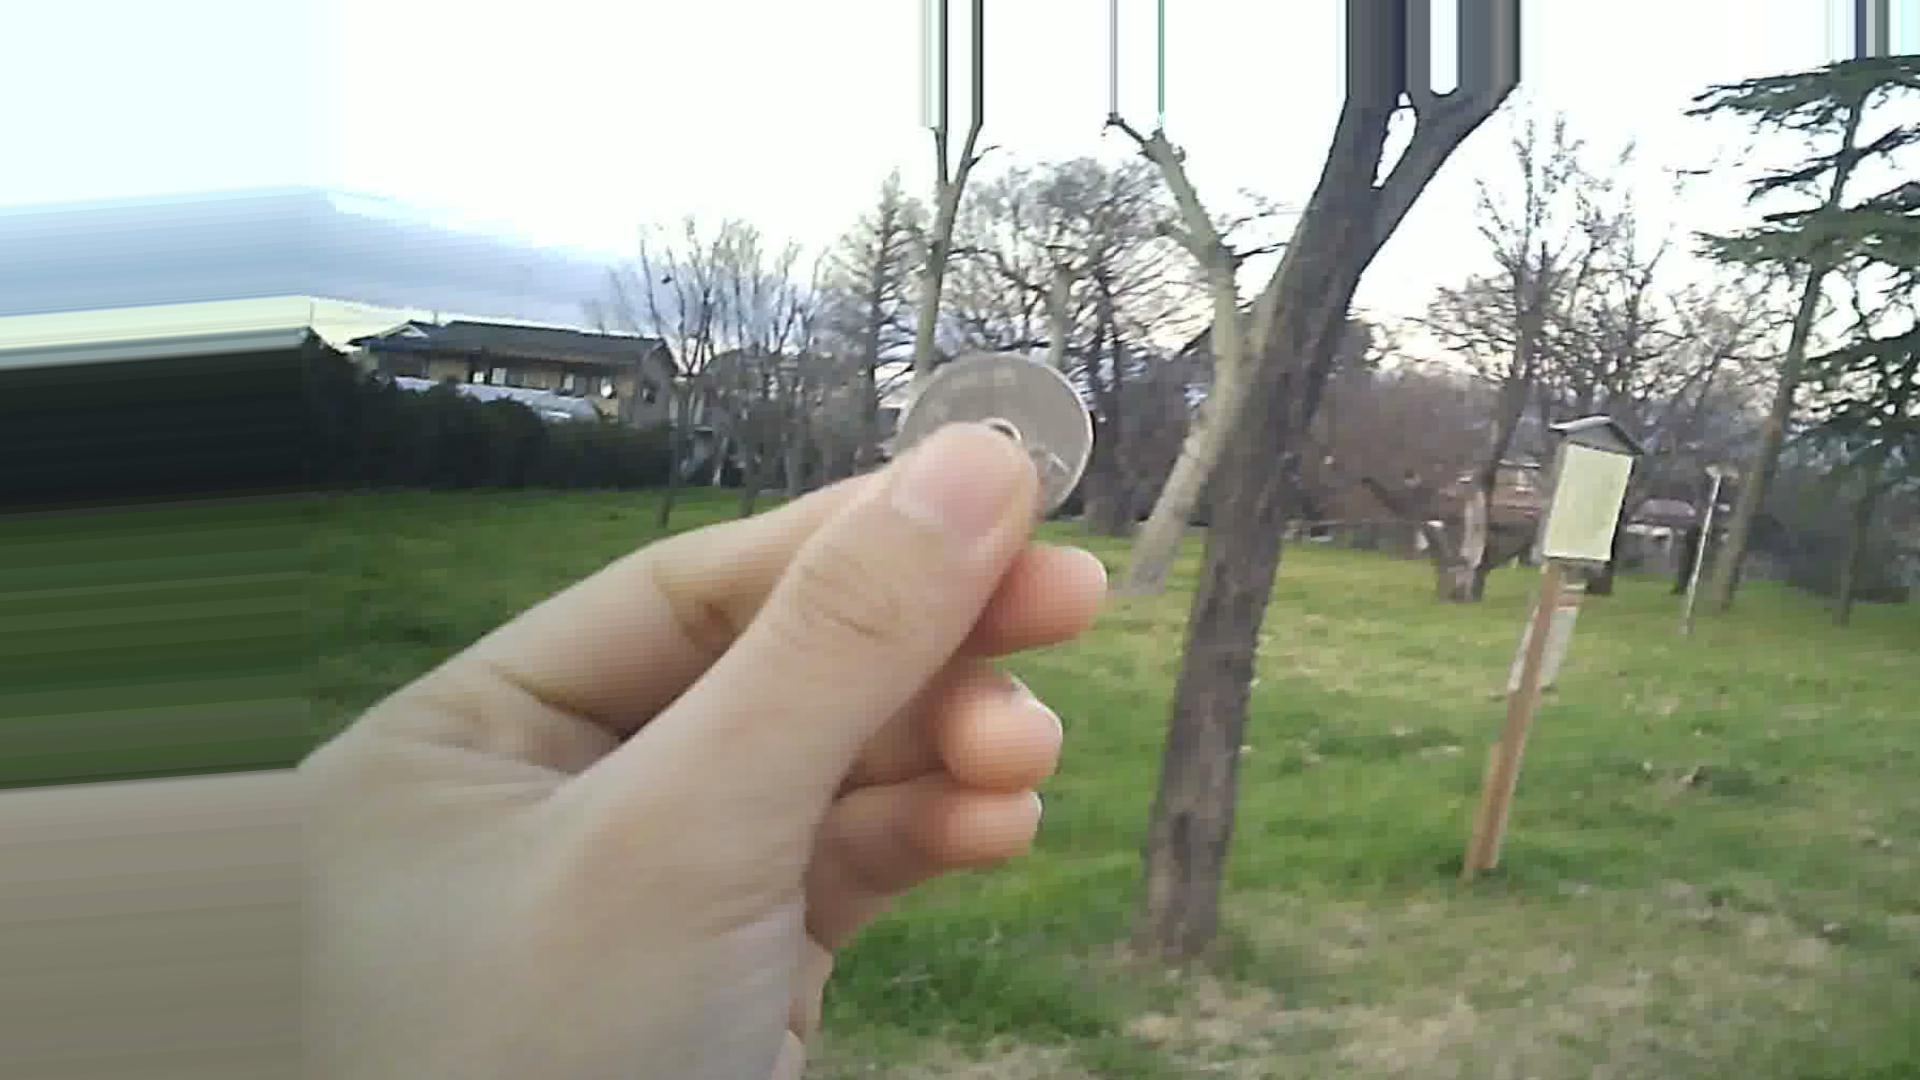50 Yen: (890, 345, 1096, 534)
